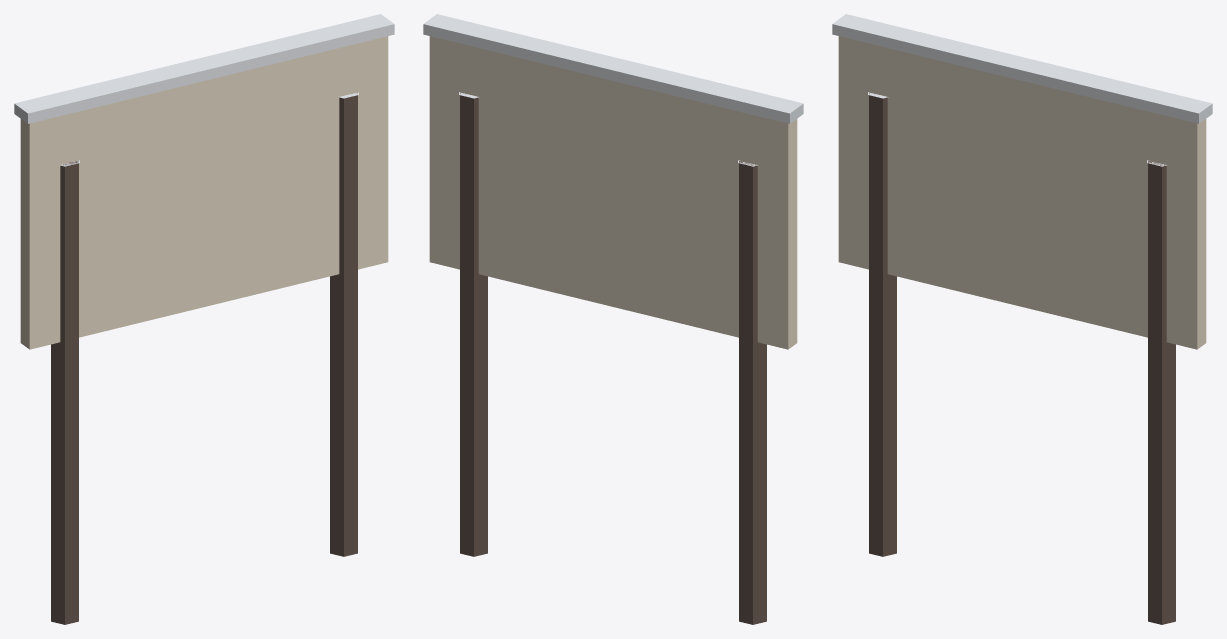
File: gate_board.glb
3 views of the same model, side by side, from view 1: azimuth 30°, elevation 25°; view 2: azimuth 150°, elevation 25°; view 3: azimuth 330°, elevation 25° (orthographic).
Parts seen in each view (by area): view 1: gate_board_main, gate_board_snow; view 2: gate_board_main, gate_board_snow; view 3: gate_board_main, gate_board_snow.
Boxes of the visible parts, <box> form: gate_board_main: <box>20,36,388,624</box>; gate_board_snow: <box>14,14,394,166</box>; gate_board_main: <box>429,36,797,624</box>; gate_board_snow: <box>423,14,803,166</box>; gate_board_main: <box>838,36,1206,624</box>; gate_board_snow: <box>832,14,1212,166</box>.
Size of the model in its own units: 1.84 by 2.49 by 0.1299.
